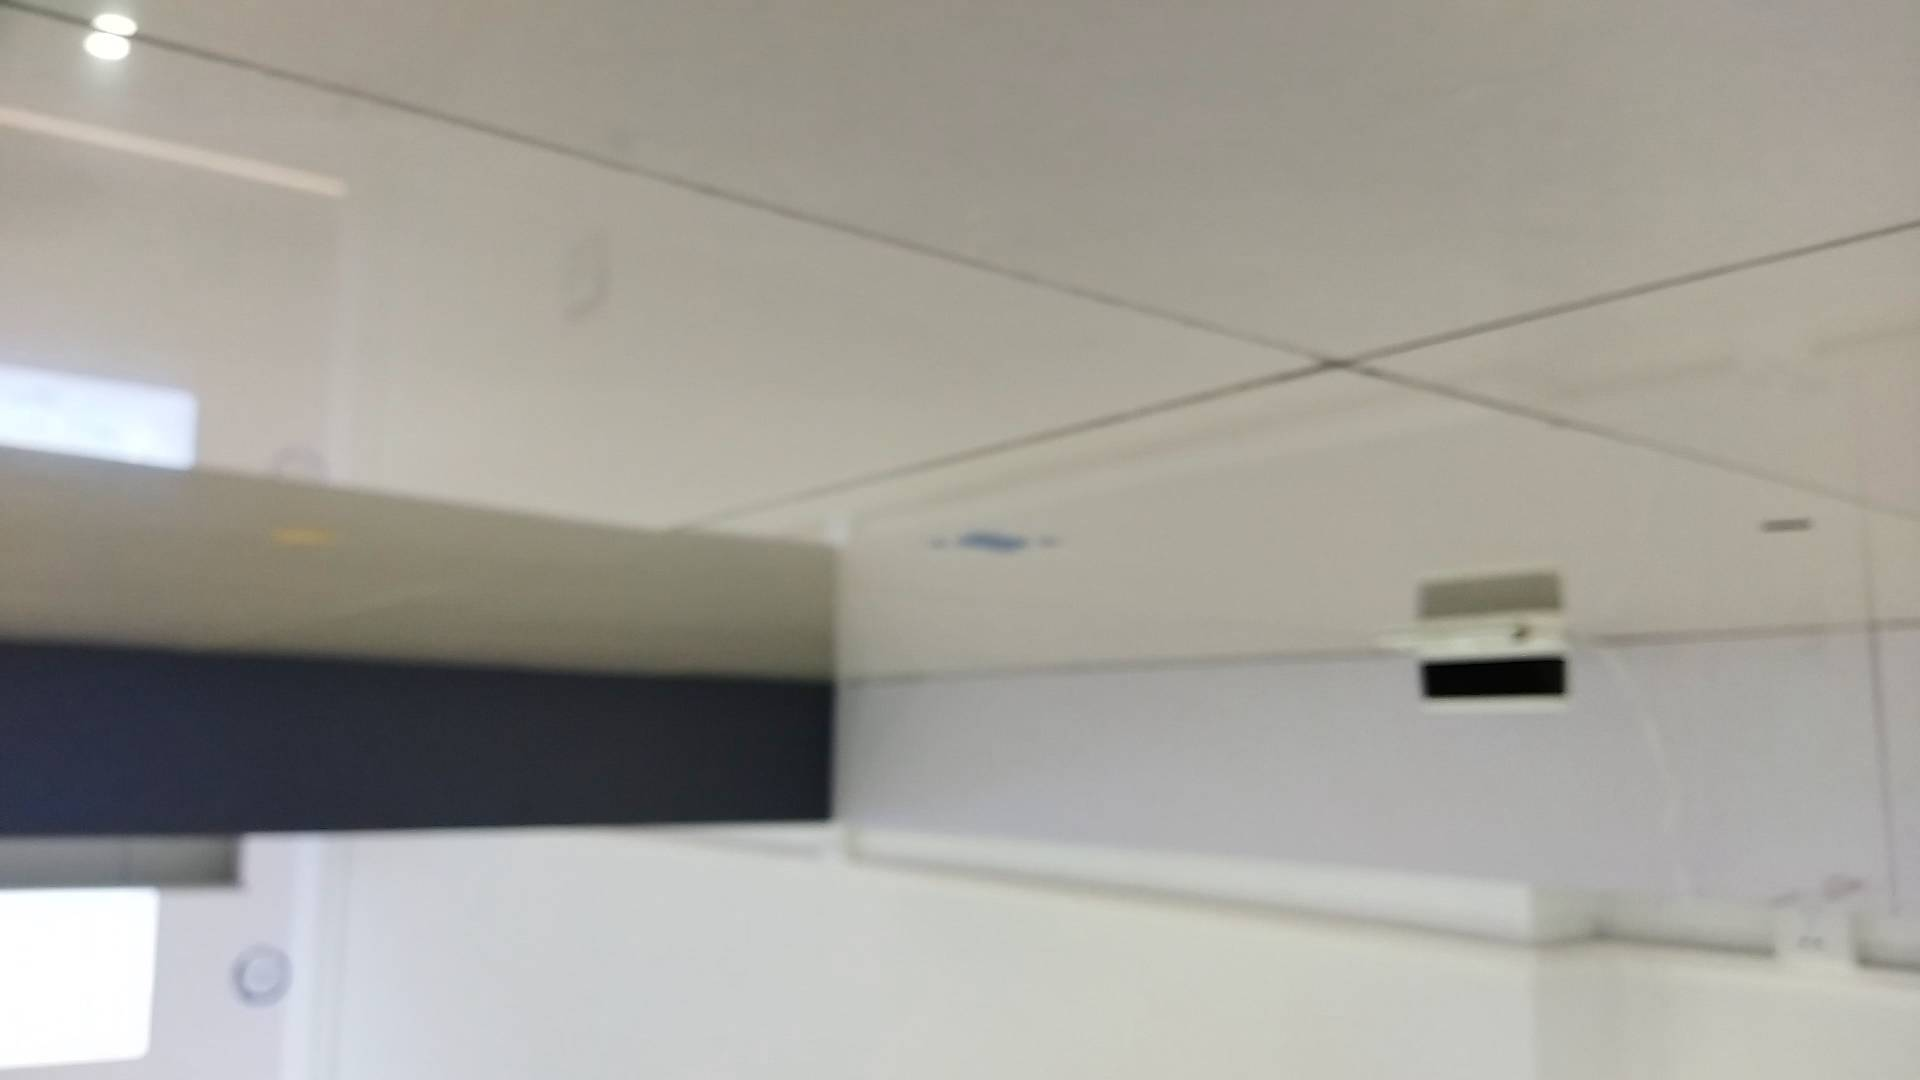recharge seat: (1361, 609, 1576, 715)
